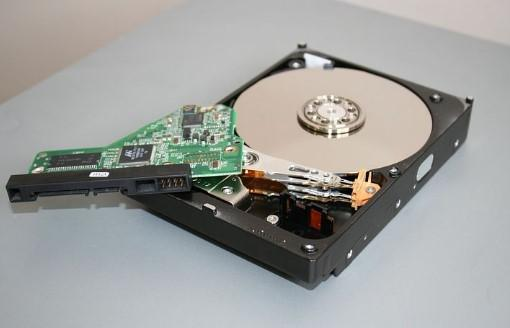internal HDD: (9, 47, 472, 287)
